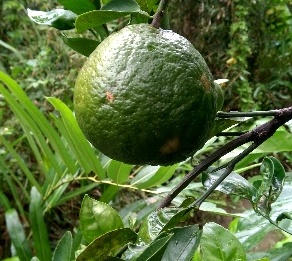Cam: (68, 19, 218, 167)
